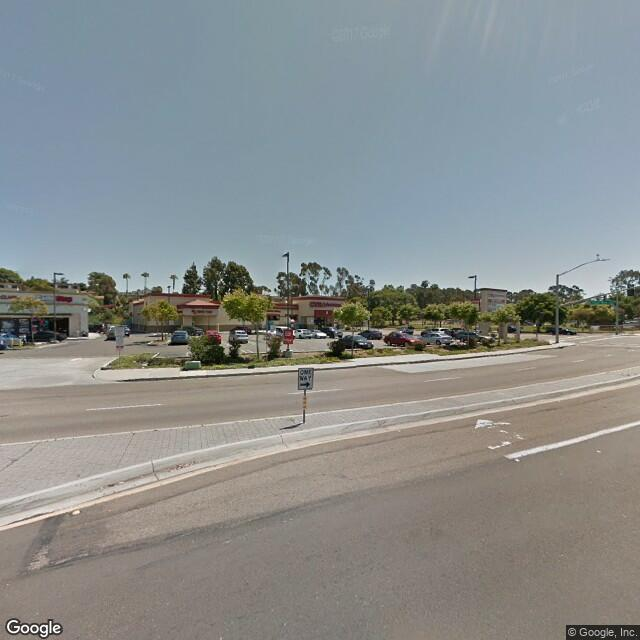litter: (103, 479, 128, 489), (168, 463, 196, 471)
